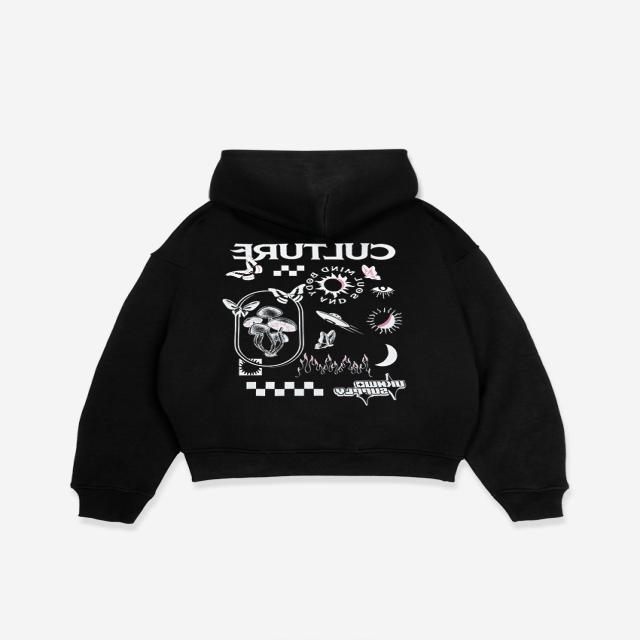sweater: (67, 146, 571, 527)
